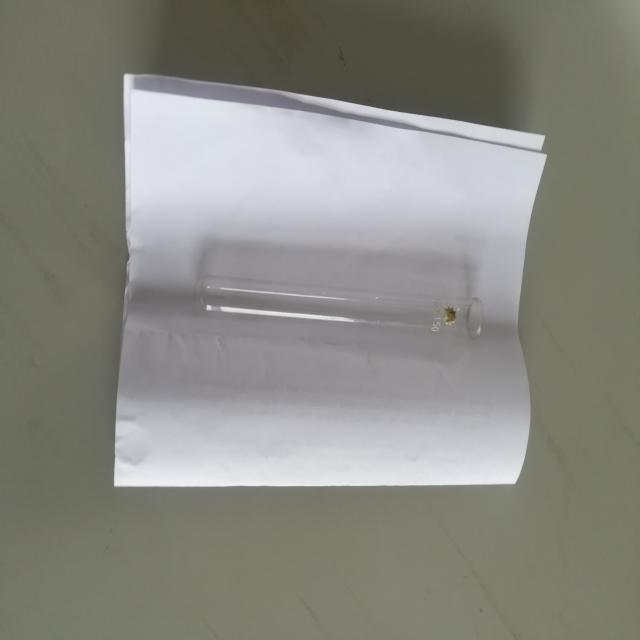Test_Tube: (178, 230, 497, 376)
